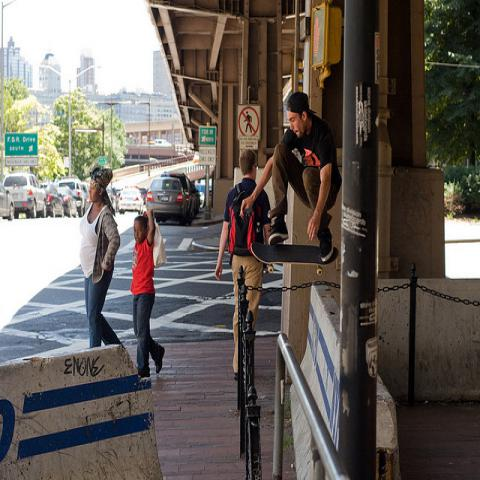car: (1, 172, 47, 220), (146, 176, 186, 225), (169, 173, 196, 227), (57, 176, 88, 217), (41, 183, 65, 217), (118, 190, 144, 212), (58, 186, 77, 216), (0, 189, 14, 221), (193, 185, 200, 215)
